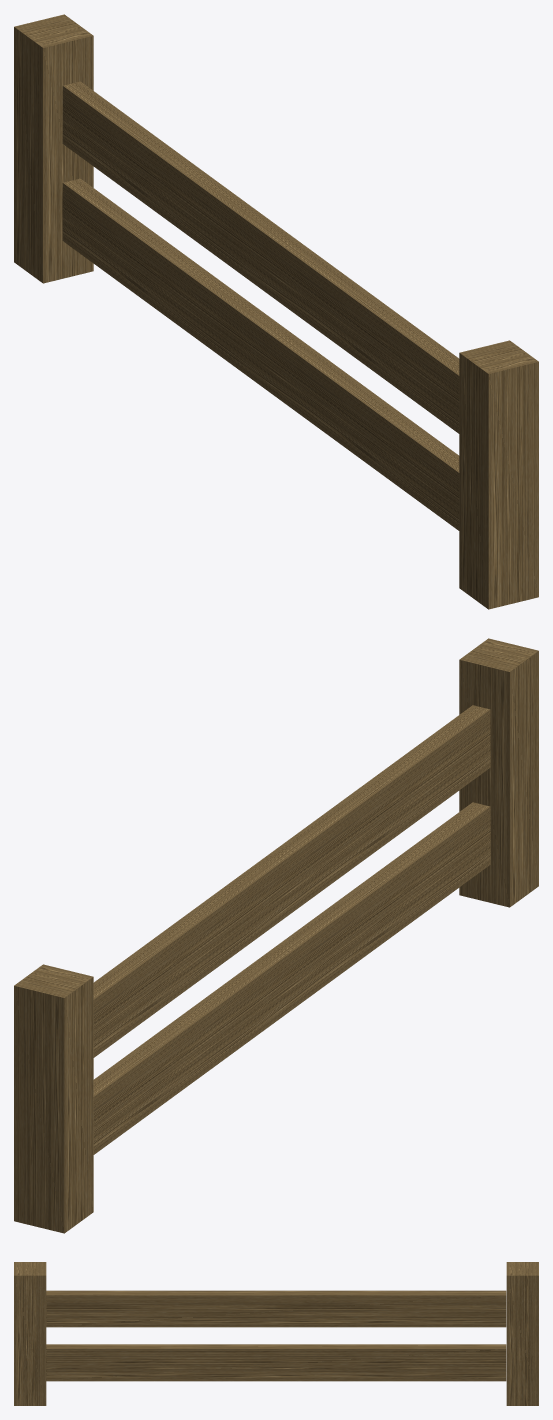
File: fence.obj
3 renders of one model, top to bottom at view 1: azimuth 30°, elevation 25°; view 2: azimuth 150°, elevation 25°; view 3: azimuth 270°, elevation 25°, orthographic. The views are drawn at different scales.
Visible parts, largest first — view 1: Cube.003_Cube.007, Cube.002_Cube.004, Cube, Cube.001_Cube.006; view 2: Cube.002_Cube.004, Cube.003_Cube.007, Cube.001_Cube.006, Cube; view 3: Cube.003_Cube.007, Cube.002_Cube.004, Cube.001_Cube.006, Cube.
Boxes of the visible parts, bbox=[...] form: Cube.003_Cube.007: bbox=[62, 178, 459, 530]; Cube.002_Cube.004: bbox=[62, 81, 459, 433]; Cube: bbox=[459, 340, 538, 609]; Cube.001_Cube.006: bbox=[14, 14, 93, 283]; Cube.002_Cube.004: bbox=[93, 705, 490, 1057]; Cube.003_Cube.007: bbox=[93, 802, 490, 1154]; Cube.001_Cube.006: bbox=[14, 964, 93, 1233]; Cube: bbox=[459, 638, 538, 907]; Cube.003_Cube.007: bbox=[46, 1344, 506, 1381]; Cube.002_Cube.004: bbox=[46, 1290, 506, 1327]; Cube.001_Cube.006: bbox=[506, 1262, 538, 1405]; Cube: bbox=[14, 1262, 46, 1405].
Bounding box in the file's own units: 0.3155 × 1.41 × 5.14.
2 materials, 2 textured.
